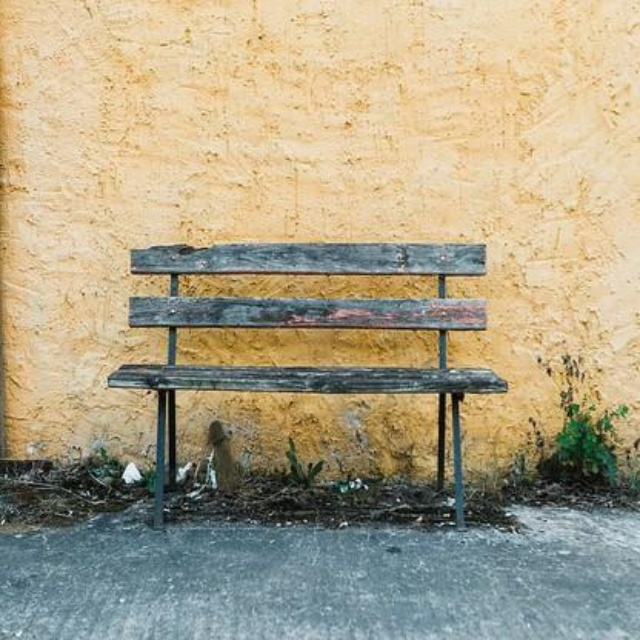obstacle: (106, 228, 508, 495)
